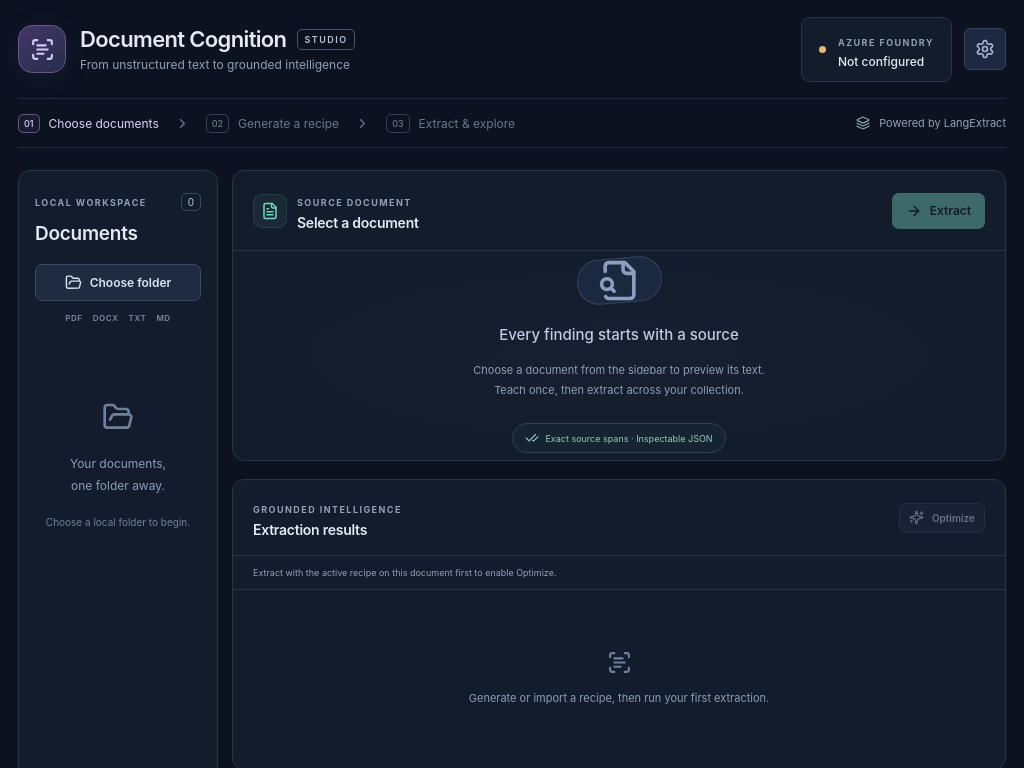
Scenario: restores valid settings without adding them to the recipe
This screenshot has width=1024, height=768.
Click the button named "Extraction settings": (985, 49) [964,28,1006,70]
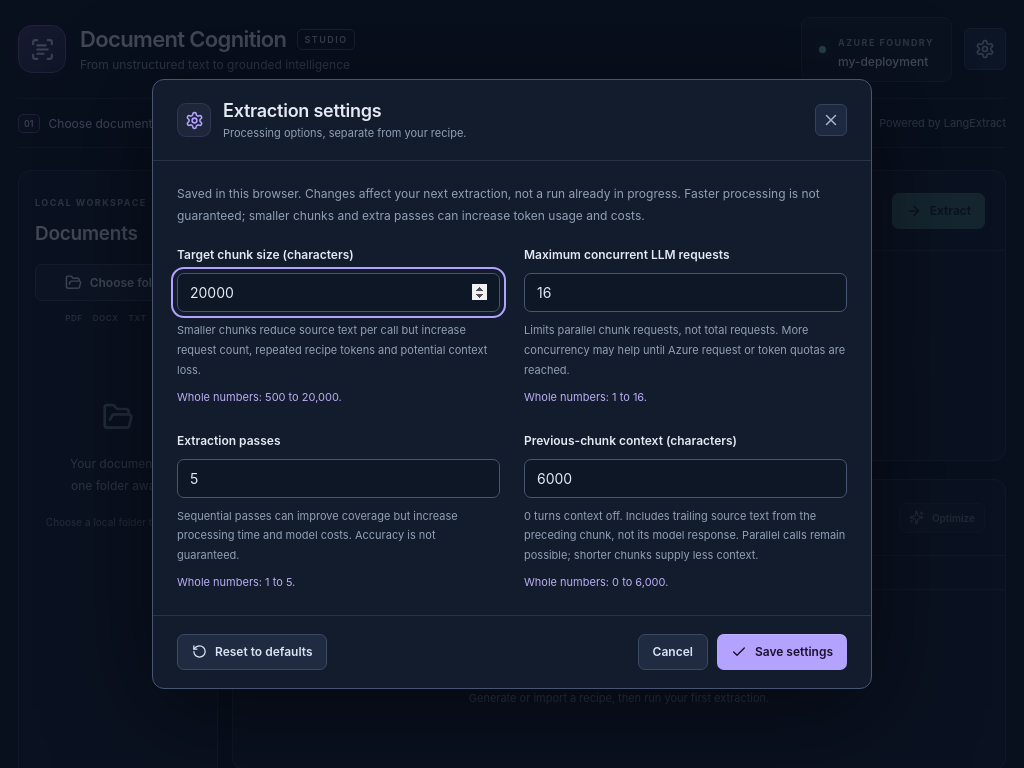
Check: the number field labelled "Target chunk size (characters)" holds "20000", box [177,273,500,312]
Check: the number field labelled "Maximum concurrent LLM requests" holds "16", box [524,273,847,312]
Check: the number field labelled "Extraction passes" holds "5", box [177,459,500,498]
